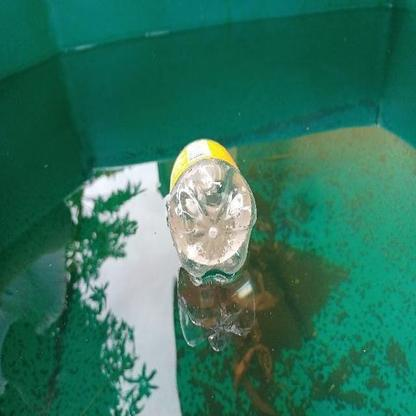plastic bottle: (165, 138, 258, 275)
